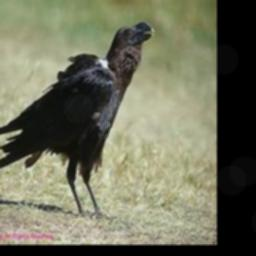Crow: (0, 20, 155, 217)
